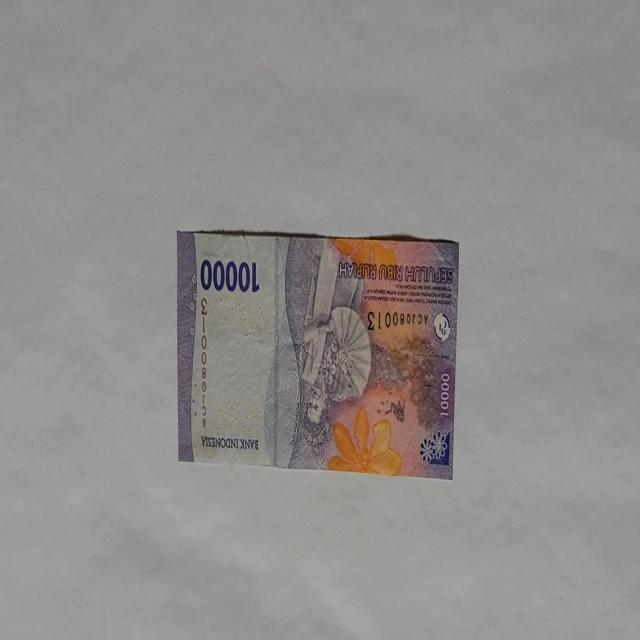sepuluh ribu rupiah: (176, 228, 460, 479)
